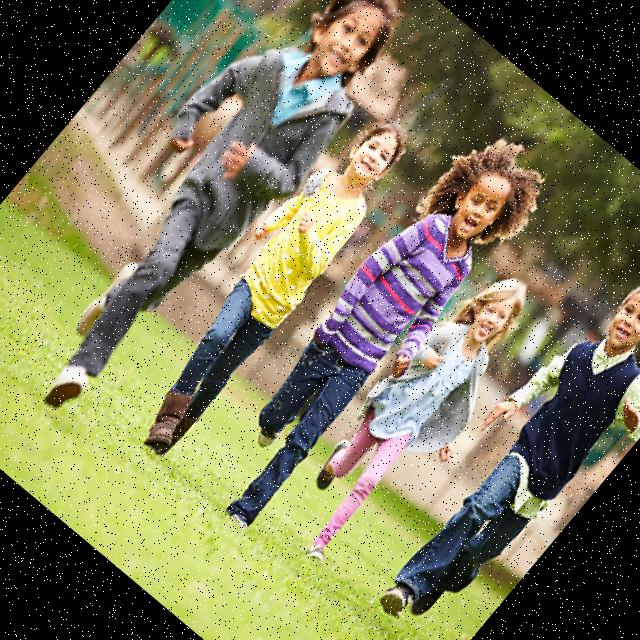Person: (0, 0, 433, 433), (188, 114, 565, 536), (104, 100, 426, 462), (350, 252, 640, 640), (263, 250, 567, 584)
